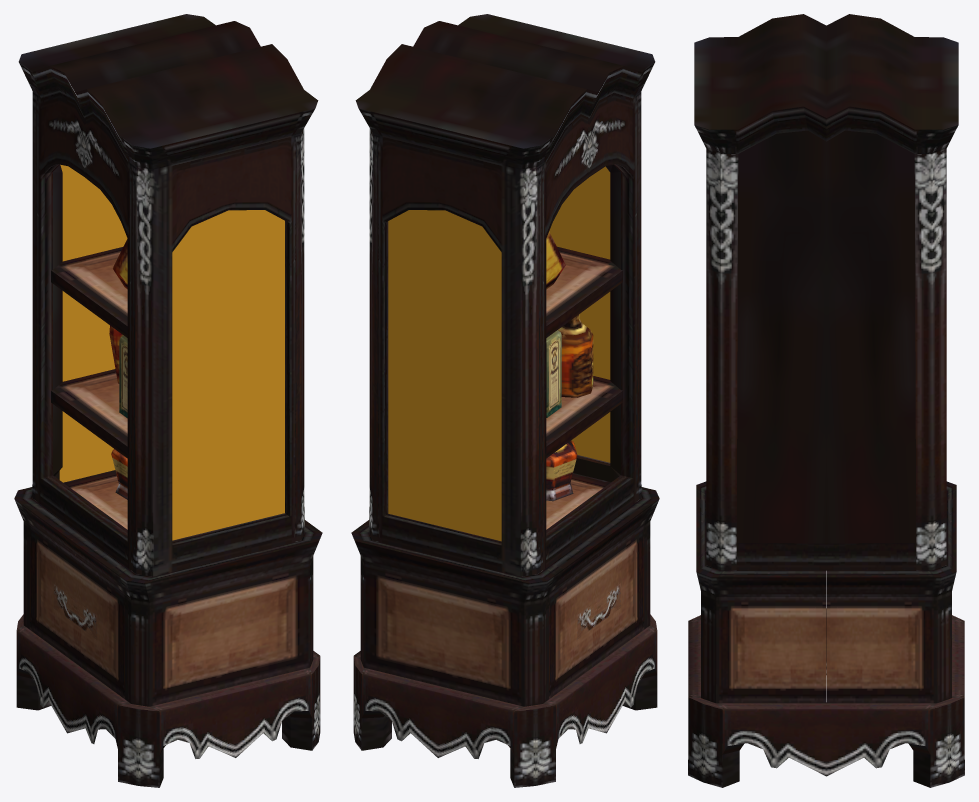
Rendered from furni_0201221.FBX.
3 renders of one model, left to right at view 1: azimuth 30°, elevation 25°; view 2: azimuth 150°, elevation 25°; view 3: azimuth 270°, elevation 25°, orthographic. The views are drawn at different scales.
Parts seen in each view (by area): view 1: furni_0201221; view 2: furni_0201221; view 3: furni_0201221.
Part boxes in pixels (bbox=[...]): furni_0201221: bbox=[14, 14, 322, 787]; furni_0201221: bbox=[351, 14, 659, 787]; furni_0201221: bbox=[688, 14, 964, 787].
Bounding box in the file's own units: 66.47 × 208 × 76.88.
